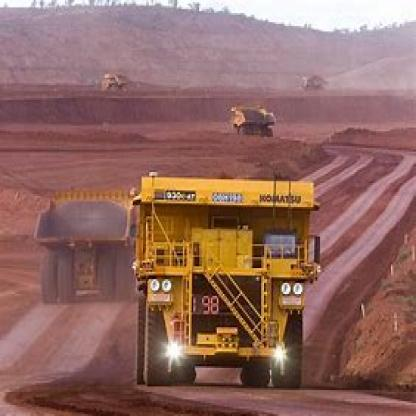dump_truck: (130, 163, 335, 390), (30, 179, 140, 320), (229, 92, 273, 144)
